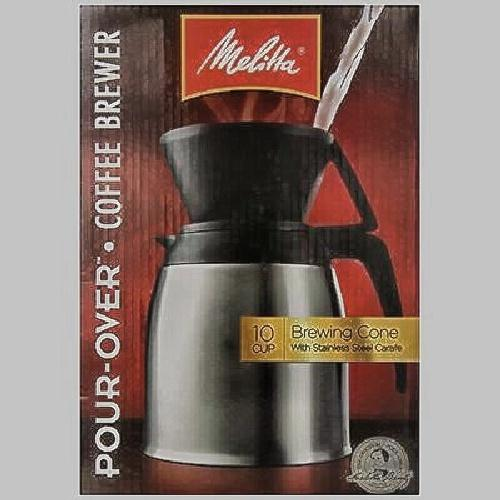coffee_maker: (149, 120, 392, 469)
